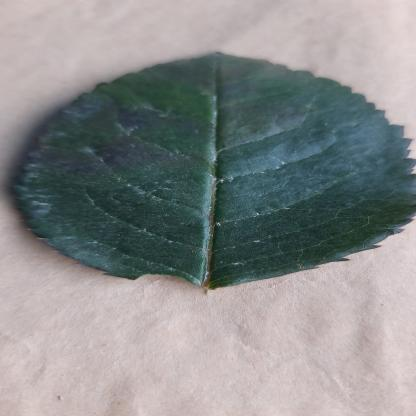downy-mildew: (6, 50, 410, 289)
